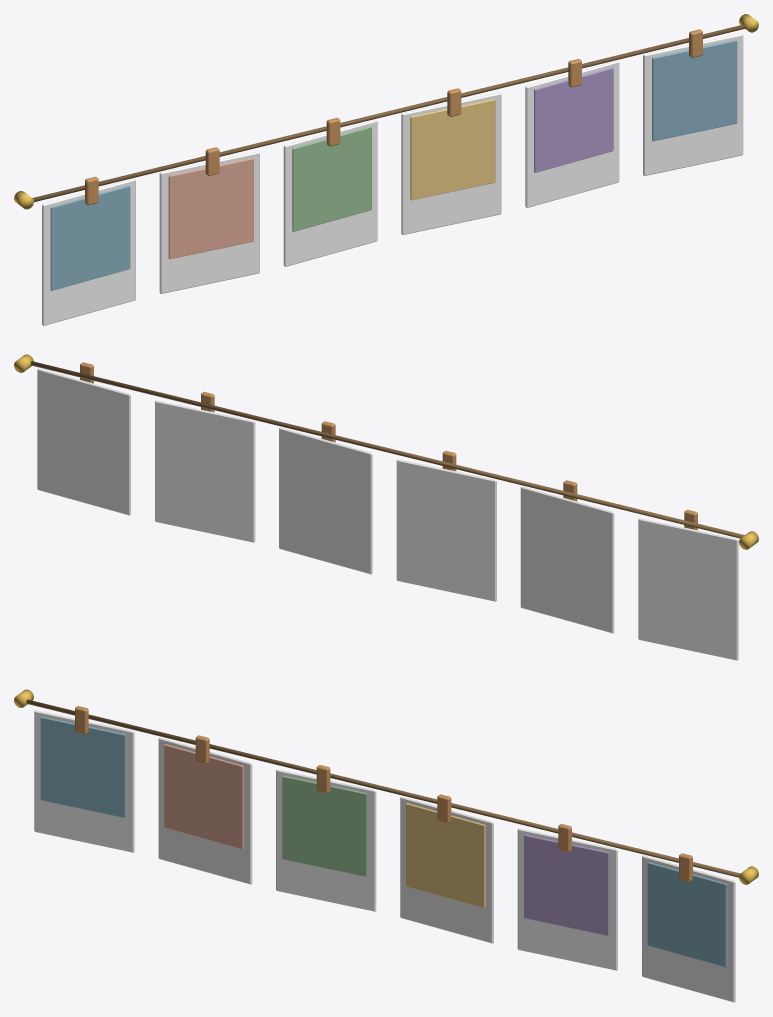
The model's file is photo_wall.glb.
3 views of the same model, one above another, from view 1: azimuth 30°, elevation 25°; view 2: azimuth 150°, elevation 25°; view 3: azimuth 330°, elevation 25° (orthographic).
Parts seen in each view (by area): view 1: picture.001, picture.003, picture.005, picture, picture.002, picture.004, polaroid.003, polaroid.001, polaroid.005, polaroid.002, polaroid.004, polaroid (+1 smaller); view 2: polaroid, polaroid.002, polaroid.004, polaroid.001, polaroid.005, polaroid.003, string; view 3: picture.002, picture, picture.004, picture.005, picture.003, picture.001, polaroid, polaroid.002, polaroid.004, polaroid.001, polaroid.003, polaroid.005 (+1 smaller).
Boxes of the visible parts, x1,y1,x2,y2 form: picture.001: (168,158,253,259); picture.003: (410,99,495,200); picture.005: (652,40,737,141); picture: (50,185,130,290); picture.002: (292,126,371,231); picture.004: (534,67,613,172); polaroid.003: (401,92,501,234); polaroid.001: (159,151,259,293); polaroid.005: (643,33,743,175); polaroid.002: (283,120,377,266); polaroid.004: (525,60,619,207); polaroid: (42,178,135,325); polaroid: (638,518,738,660); polaroid.002: (396,459,496,601); polaroid.004: (155,400,255,542); polaroid.001: (520,486,614,633); polaroid.005: (37,368,130,515); polaroid.003: (279,427,372,574); string: (31,361,744,538); picture.002: (282,775,367,876); picture: (40,716,125,817); picture.004: (524,834,609,935); picture.005: (647,862,727,967); picture.003: (406,803,485,908); picture.001: (164,744,243,849); polaroid: (34,710,134,852); polaroid.002: (276,769,376,911); polaroid.004: (517,828,617,970); polaroid.001: (158,737,252,884); polaroid.003: (400,796,493,943); polaroid.005: (642,855,735,1002).
Bounding box in the file's own units: 1.52 × 0.27 × 0.039.
